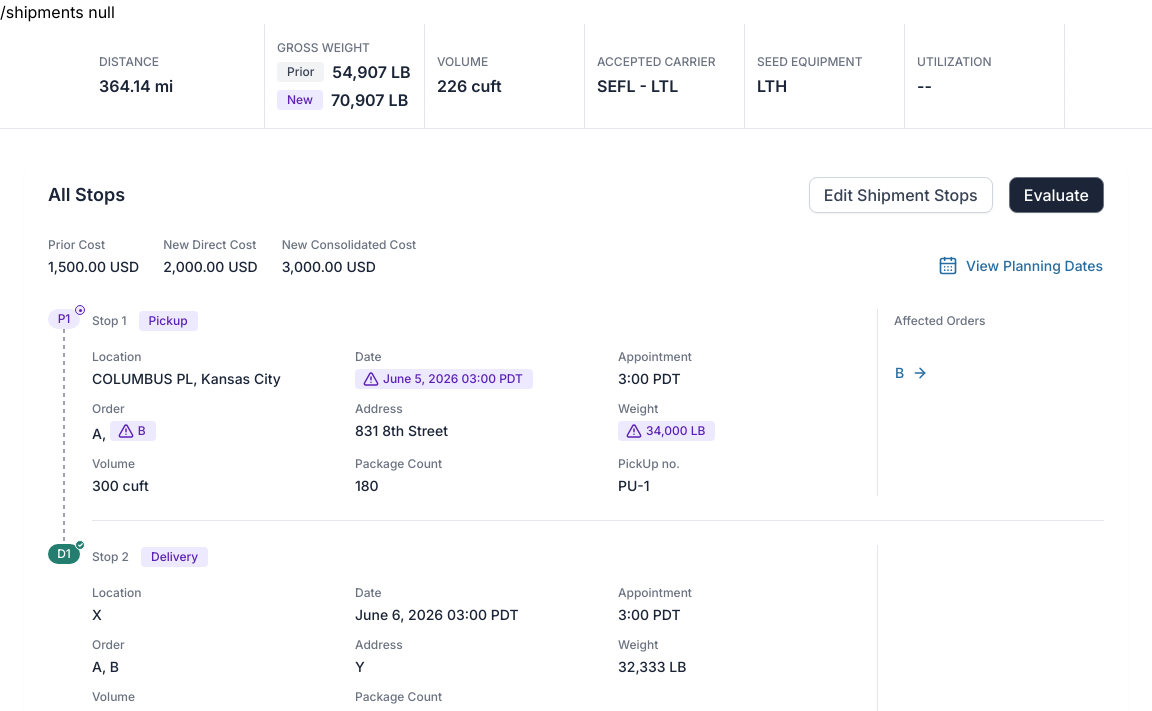
Test: StopsTab — consolidated order-change review (LINX-15435/15436) › lists affected orders per stop and opens the compare modal
Expected: the text "Affected Orders" is shown, 894,313 -> 986,329
Click the button "B".
click(912, 373)  # box 894,362 -> 929,384
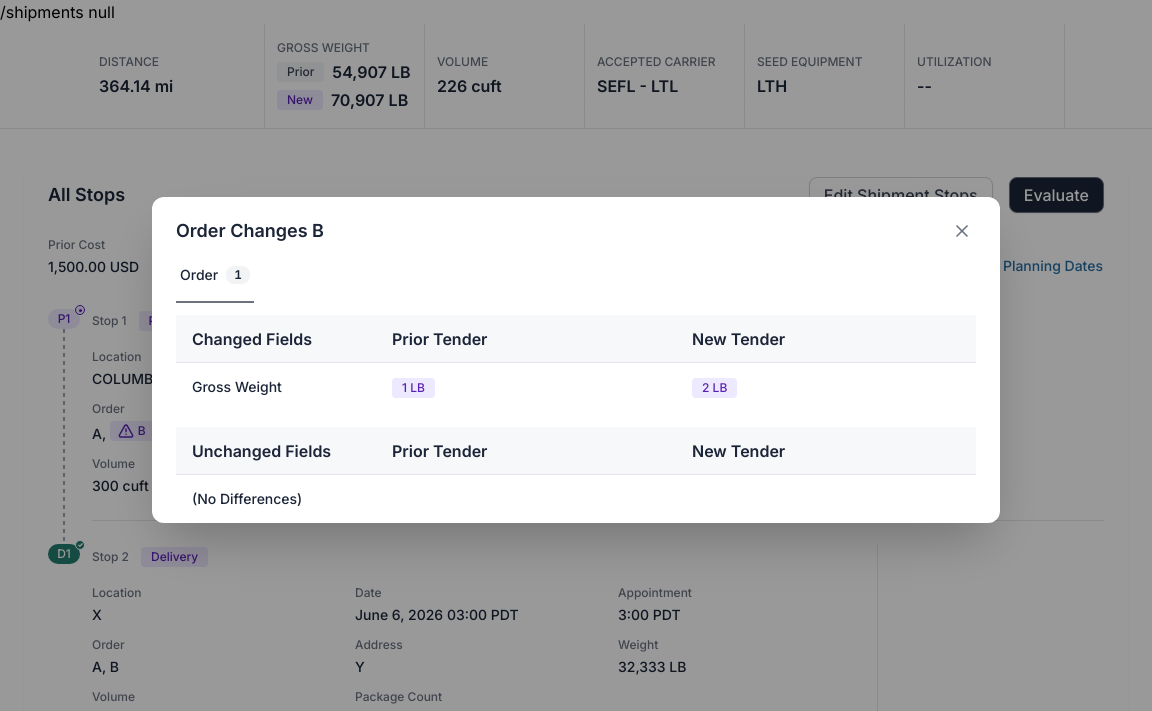
Expected: the dialog "Order Changes B" is shown, 152,197 -> 1000,523
